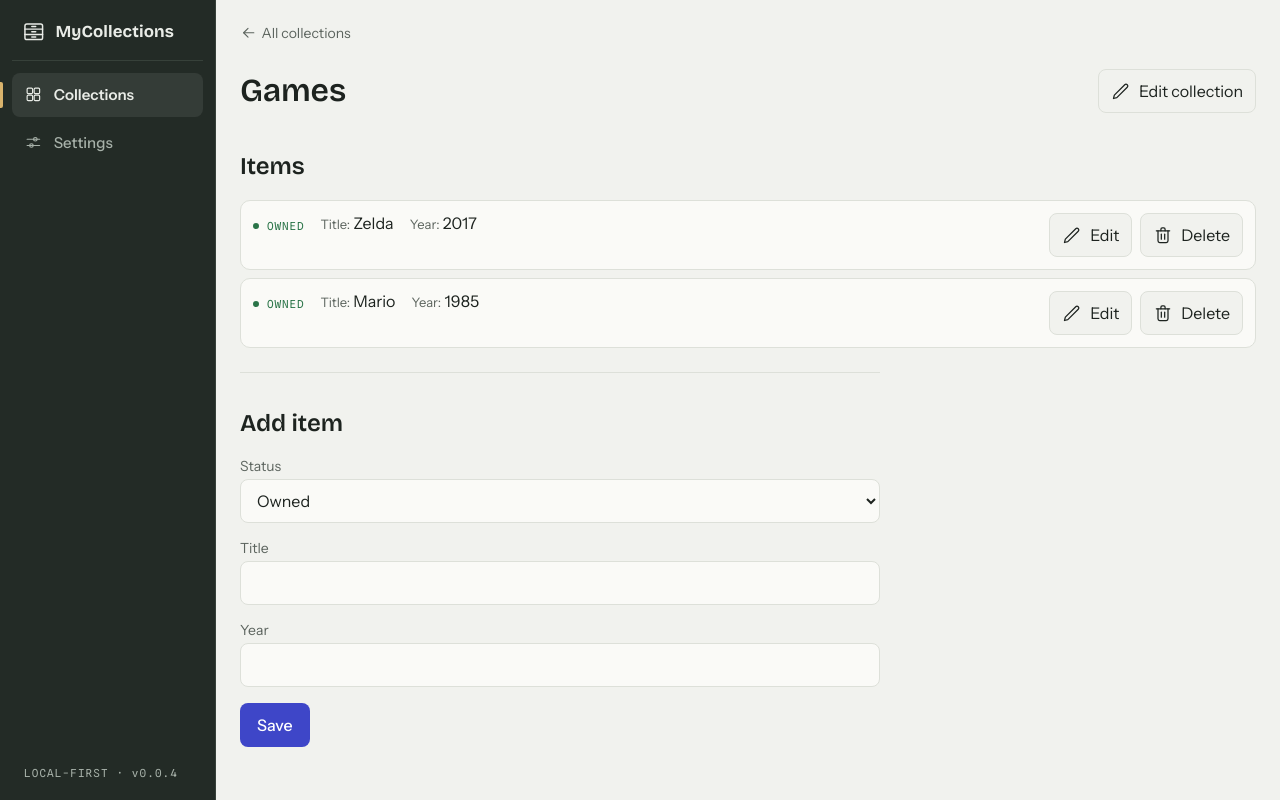
Test: CollectionDetailPage › undo toast › names the newest deletion when a second item is deleted
The width and height of the screenshot is (1280, 800).
Expected: the text "Zelda" is shown, [353, 213, 394, 233]
Click the button "Delete" in the row of "2017": point(1192, 235) [1140, 213, 1243, 257]
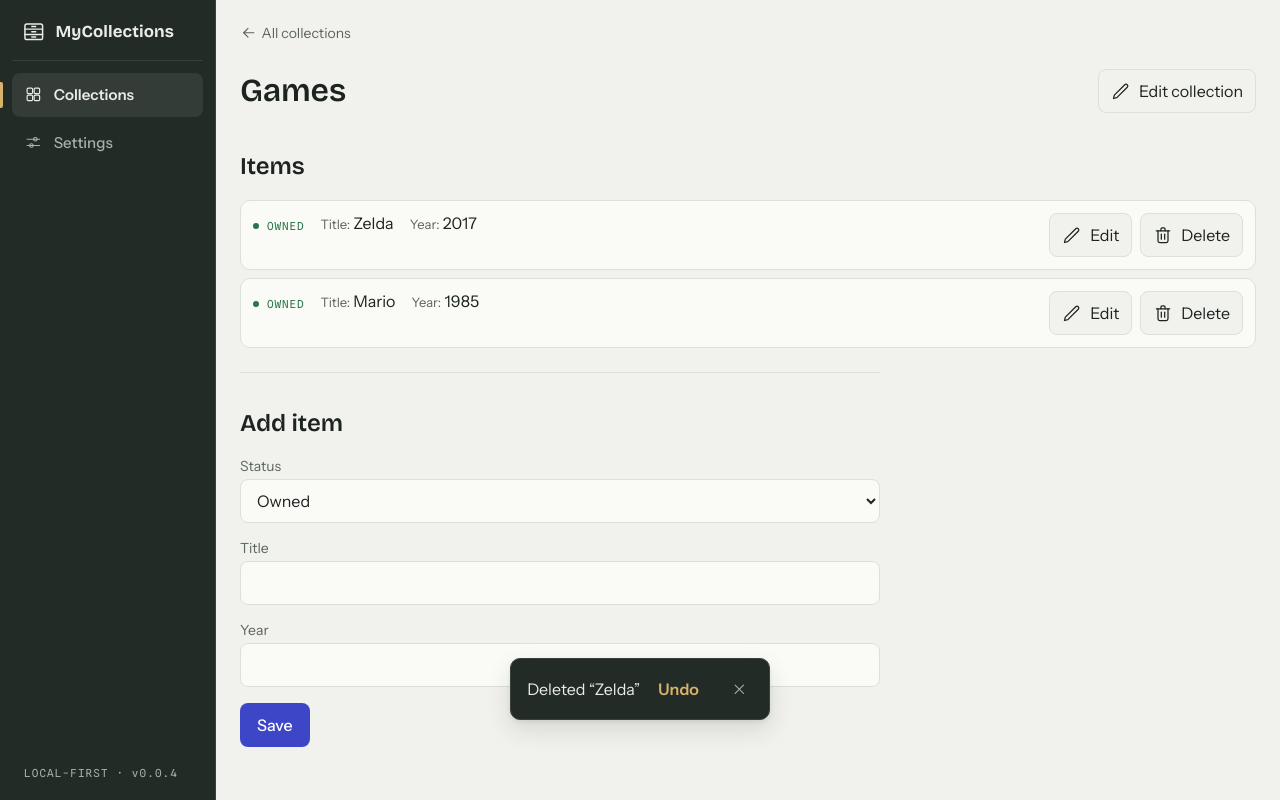
Now the element with class "undo-toast" shows "Zelda", box [527, 679, 640, 699]
Click the button "Delete" in the row of "1985": point(1192, 313) [1140, 291, 1243, 335]
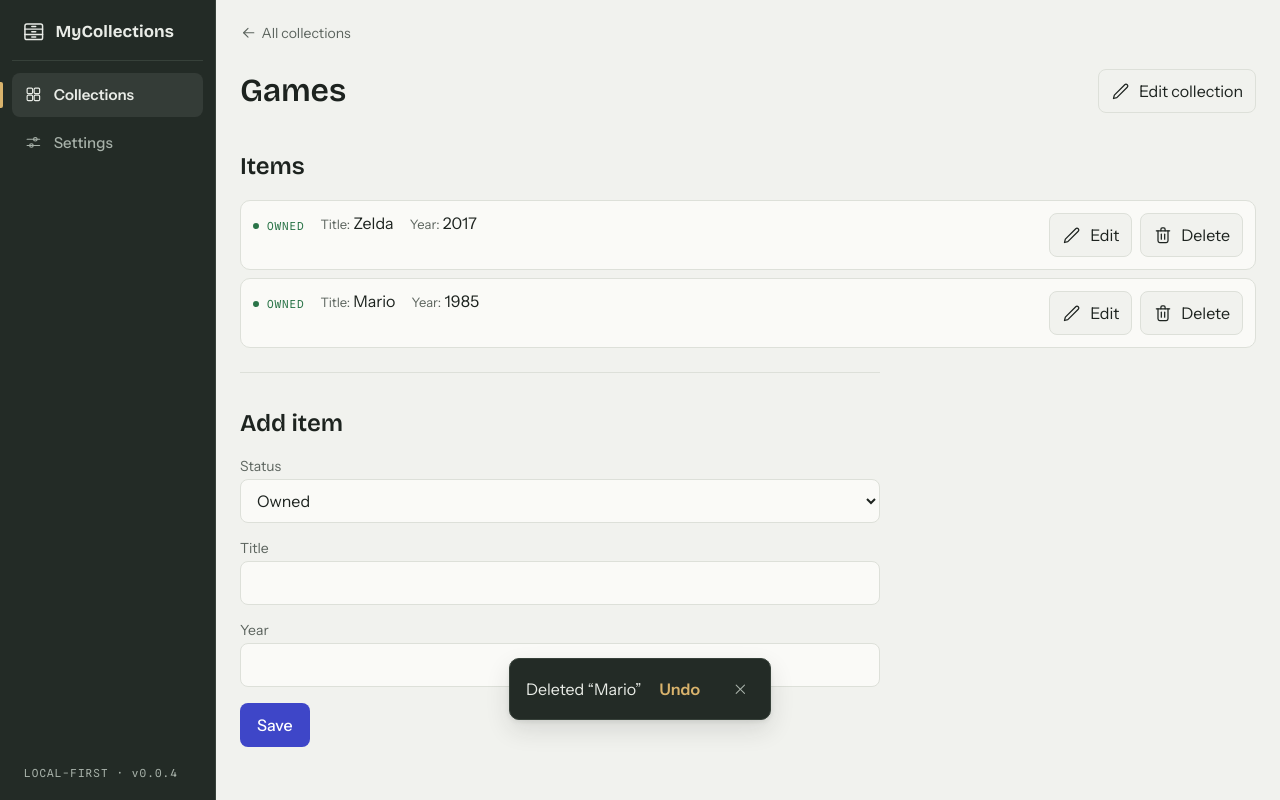
Now the number of elements with class "undo-toast-live" is 1, box [509, 658, 771, 720]
Now the number of elements with class "undo-toast" is 1, box [509, 658, 771, 720]
Now the element with class "undo-toast-live" shows "Mario", box [526, 679, 642, 699]
